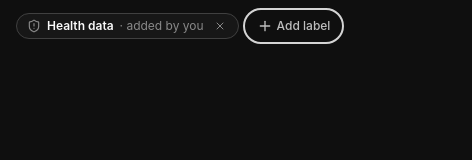
Test: ConversationLabels › says why a change failed
Press Enter in the button with aria-label "Add label", box [247, 12, 340, 40]
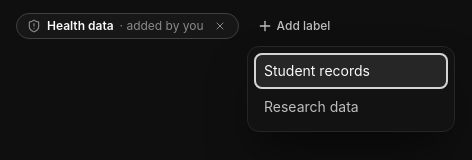
Click the menu item "Student records".
click(351, 71)  # box [254, 53, 448, 89]
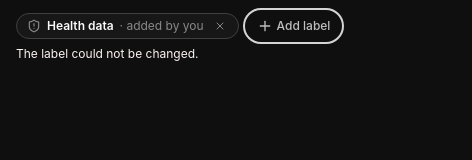
Expected: the message "The label could not be changed." is shown, [16, 46, 198, 61]
